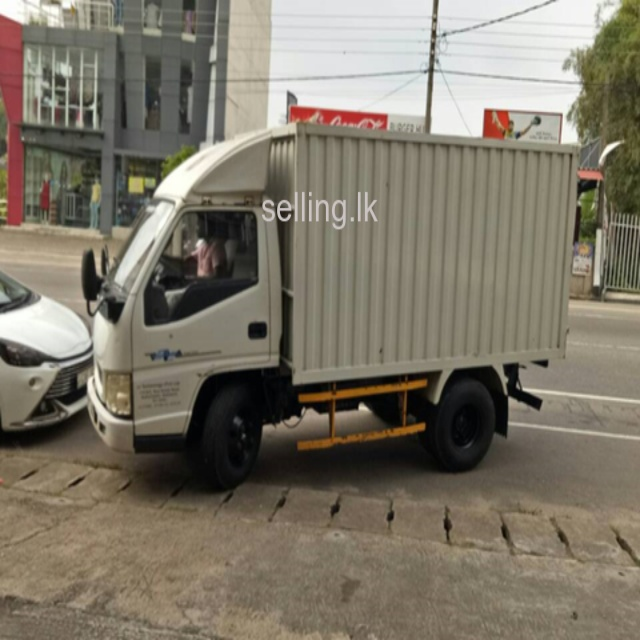Car: (1, 268, 94, 435)
Truck: (80, 124, 581, 492)
